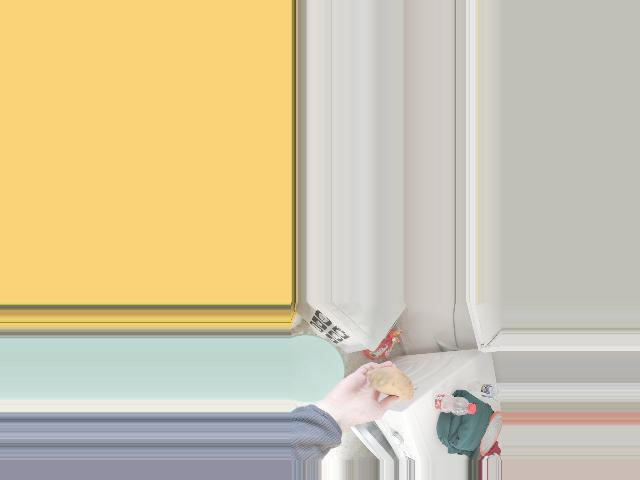sweet_potato: (373, 367, 413, 399)
